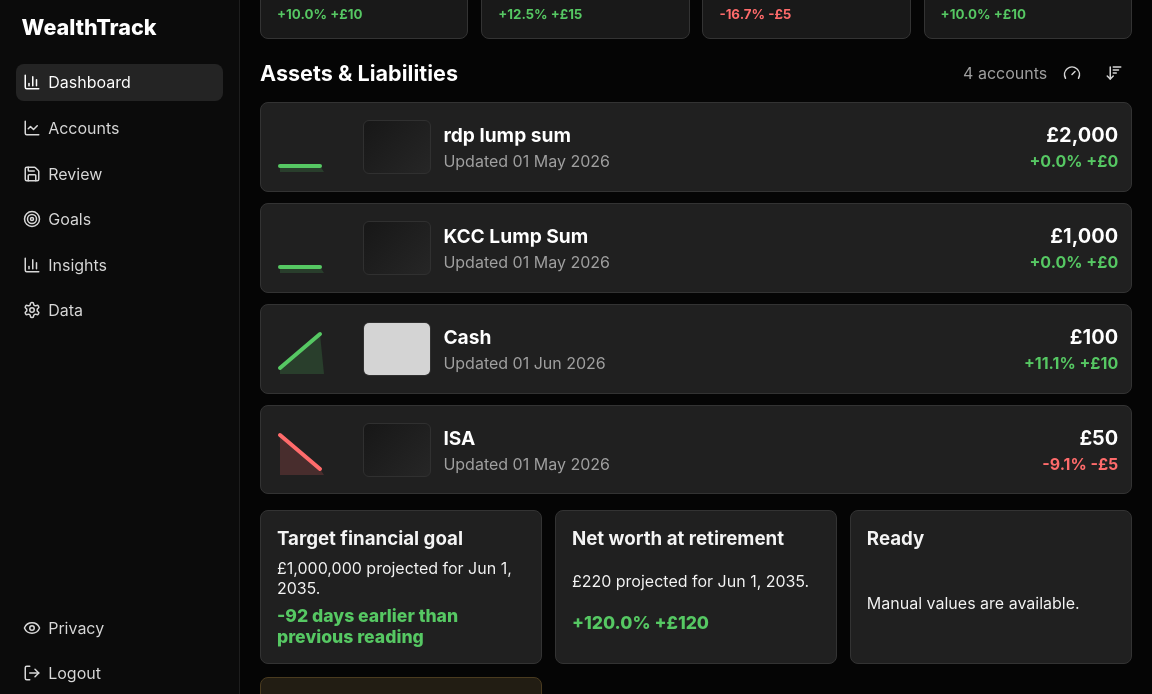
Test case: account value history listing shows latest dated values first
(page scrolled)
Click the button "Cash Updated 01 Jun 2026 £100 +11.1% +£10": x=308, y=349 x1=260 y1=304 x2=1132 y2=394
(page scrolled)
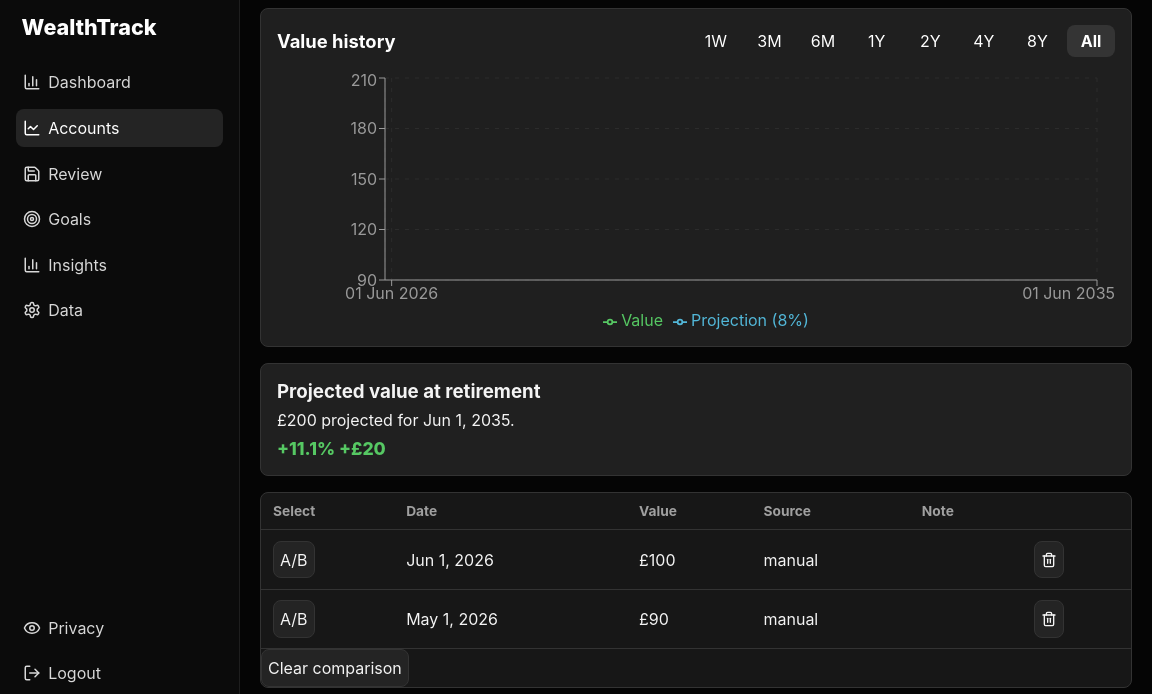
Expected: the heading "Value history" is shown, x1=277 y1=30 x2=396 y2=52
Expected: the heading "Projected value at retirement" is shown, x1=277 y1=380 x2=540 y2=403
Expected: the text "£200 projected for Jun 1, 2035." is shown, x1=277 y1=410 x2=515 y2=430
Click the button named "Compare 2026-06-01": x=294, y=560 x1=273 y1=541 x2=315 y2=578
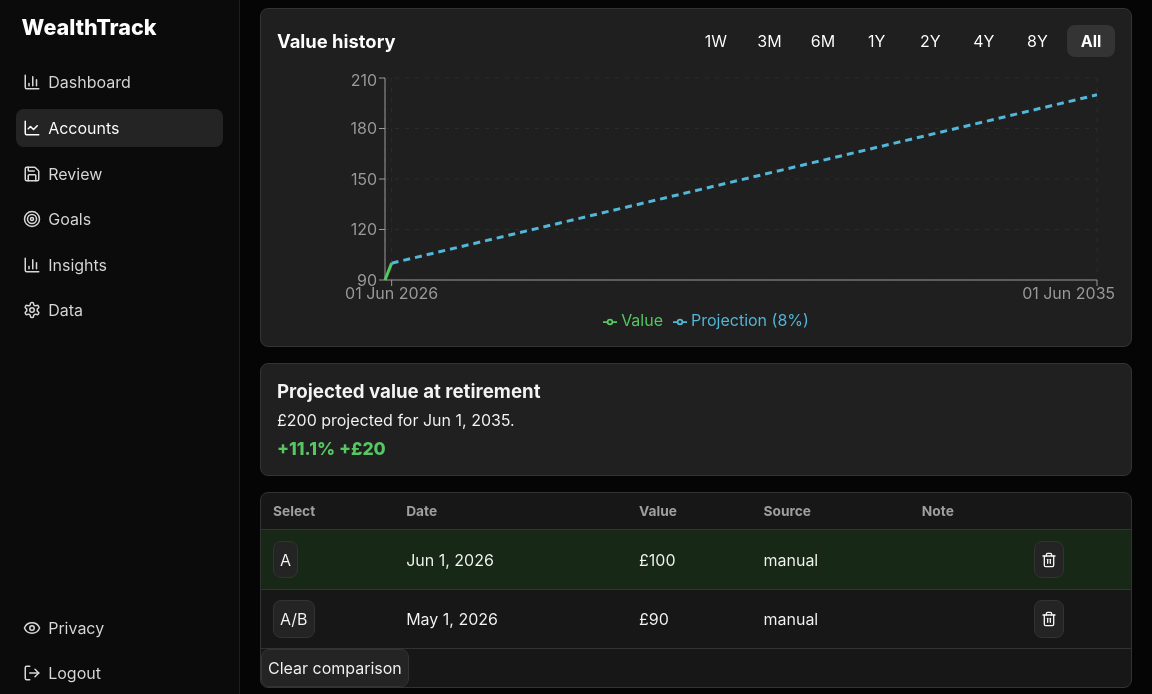
Expected: the button named "Compare 2026-06-01" reads "A", x1=273 y1=541 x2=298 y2=578
Click the button named "Compare 2026-05-01": x=294, y=619 x1=273 y1=600 x2=315 y2=638
(page scrolled)
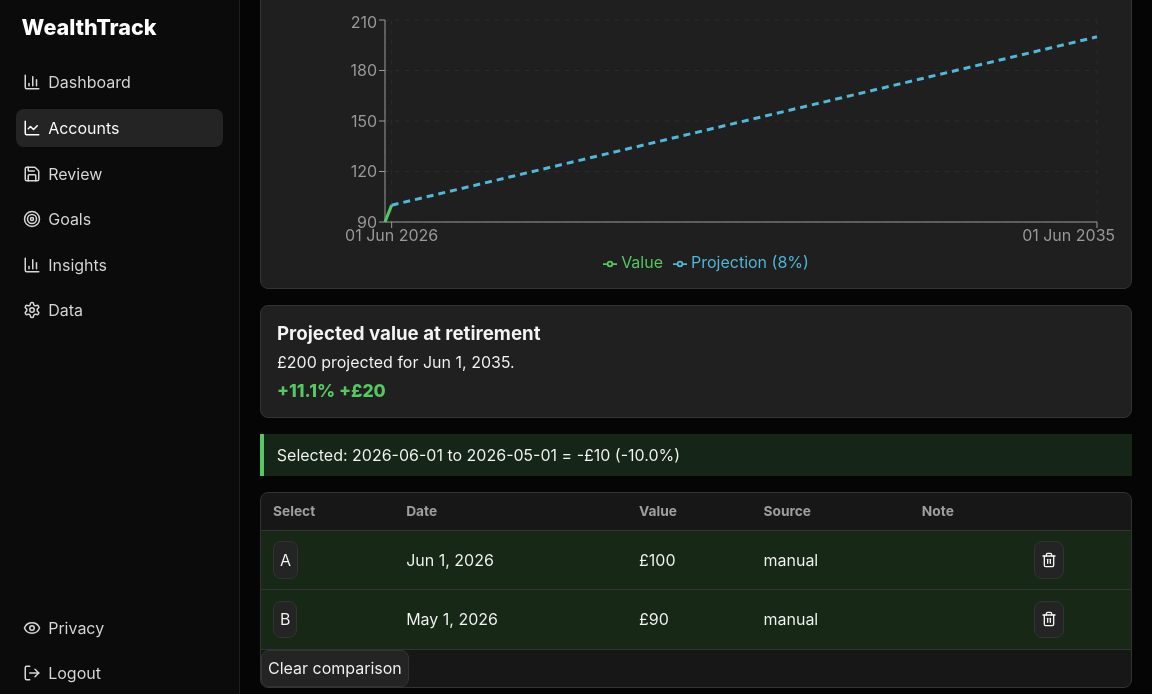
Expected: the button named "Compare 2026-05-01" reads "B", x1=273 y1=601 x2=298 y2=638
